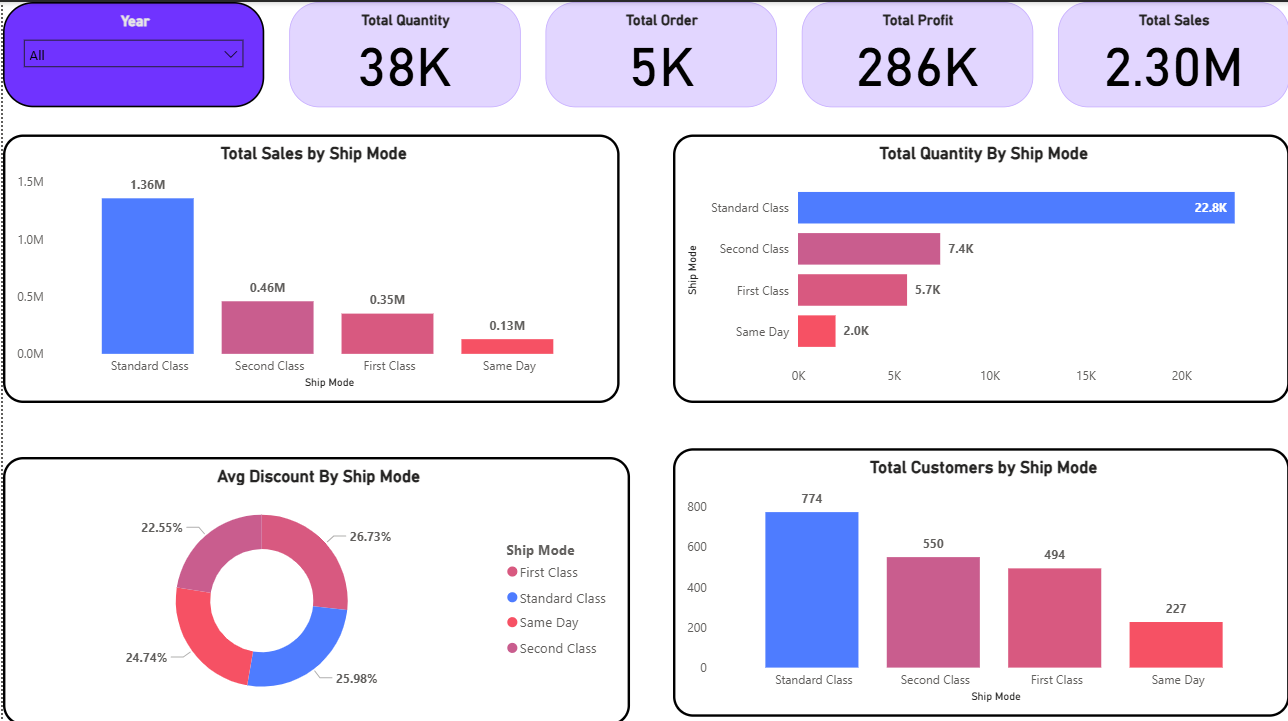

This screenshot's page, from the dashboard's own definition file:
{"tool":"powerbi","page":{"name":"Page 5","canvas":[1280,720],"ordinal":4},"visuals":[{"type":"cardVisual","title":"Total Profit","fields":{"Data":["DAXmeasure.Total_Profit"]},"box":[795,0,230,105],"z":0},{"type":"cardVisual","title":"Total Order","fields":{"Data":["DAXmeasure.Total_Order"]},"box":[540,0,230,105],"z":1000},{"type":"cardVisual","title":"Total Quantity","fields":{"Data":["DAXmeasure.Total_Quantity"]},"box":[285,0,230,105],"z":2000},{"type":"clusteredColumnChart","title":"Total Sales by Ship Mode","fields":{"Category":["Sales.Ship Mode"],"Y":["DAXmeasure.Total_Sales"]},"box":[0,131.2,613.8,267.5],"z":3000},{"type":"barChart","title":"Total Quantity By Ship Mode","fields":{"Y":["DAXmeasure.Total_Quantity"],"Category":["Sales.Ship Mode"]},"box":[666.2,131.2,613.8,267.5],"z":4000},{"type":"slicer","title":"Year","fields":{"Values":["DateDim.Order Date.Variation.Date Hierarchy.Year"]},"box":[0,0,260,105],"z":5000},{"type":"donutChart","title":"Avg Discount By Ship Mode","fields":{"Y":["DAXmeasure.Avg_Discount"],"Category":["Sales.Ship Mode"]},"box":[0,452.5,623.8,267.5],"z":6000},{"type":"clusteredColumnChart","title":"Total Customers by Ship Mode","fields":{"Category":["Sales.Ship Mode"],"Y":["DAXmeasure.Total_Customers"]},"box":[666.2,443.8,613.8,267.5],"z":7000},{"type":"cardVisual","title":"Total Sales","fields":{"Data":["DAXmeasure.Total_Sales"]},"box":[1050,0,230,105],"z":8000}]}

Visuals, with their boxes in screenshot pixels (x1, y1, x2, y2), scaled from the page's 1280x720 canvas onto the 1288x721 screenshot:
"Total Profit" cardVisual: [800, 0, 1031, 105]
"Total Order" cardVisual: [543, 0, 775, 105]
"Total Quantity" cardVisual: [287, 0, 518, 105]
"Total Sales by Ship Mode" clusteredColumnChart: [0, 131, 618, 399]
"Total Quantity By Ship Mode" barChart: [670, 131, 1287, 399]
"Year" slicer: [0, 0, 262, 105]
"Avg Discount By Ship Mode" donutChart: [0, 453, 628, 720]
"Total Customers by Ship Mode" clusteredColumnChart: [670, 444, 1287, 712]
"Total Sales" cardVisual: [1057, 0, 1287, 105]
